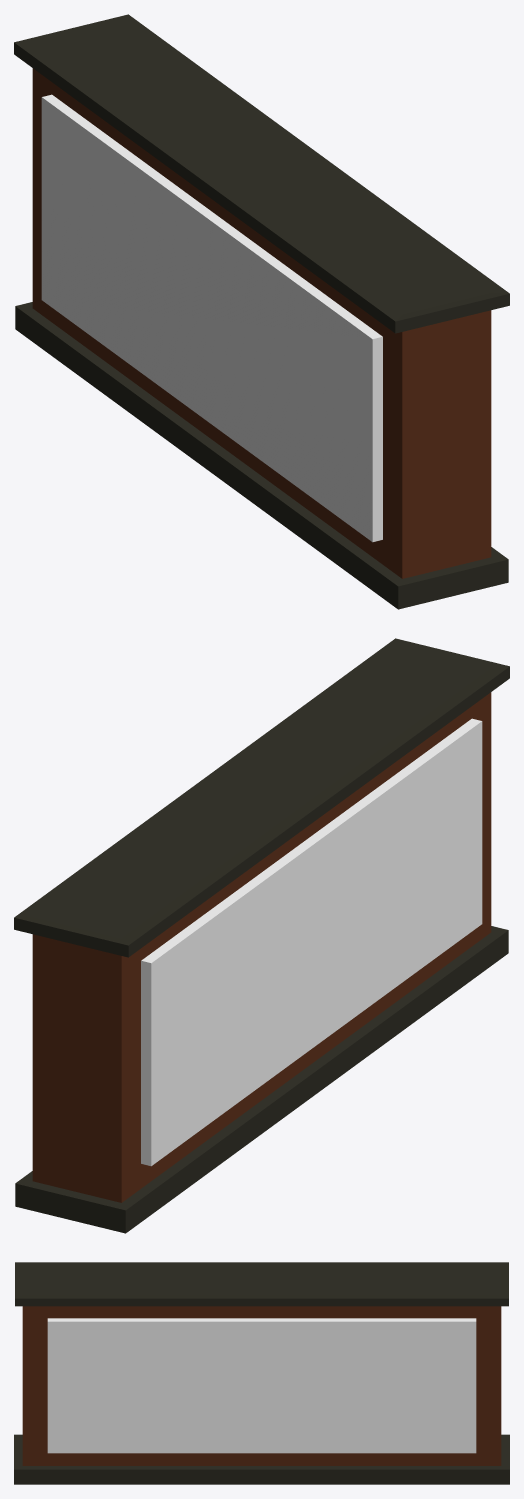
File: Shopping Centre Sign.fbx
The picture shows the model from 3 angles, top to bottom: view 1: azimuth 30°, elevation 25°; view 2: azimuth 150°, elevation 25°; view 3: azimuth 270°, elevation 25°; orthographic projection. The views are drawn at different scales.
Parts seen in each view (by area): view 1: Cube; view 2: Cube; view 3: Cube.
Part boxes in pixels (<box>): Cube: <box>14,14,509,609</box>; Cube: <box>14,638,509,1233</box>; Cube: <box>14,1262,509,1484</box>.
Size of the model in its own units: 207 by 498 by 1200.
